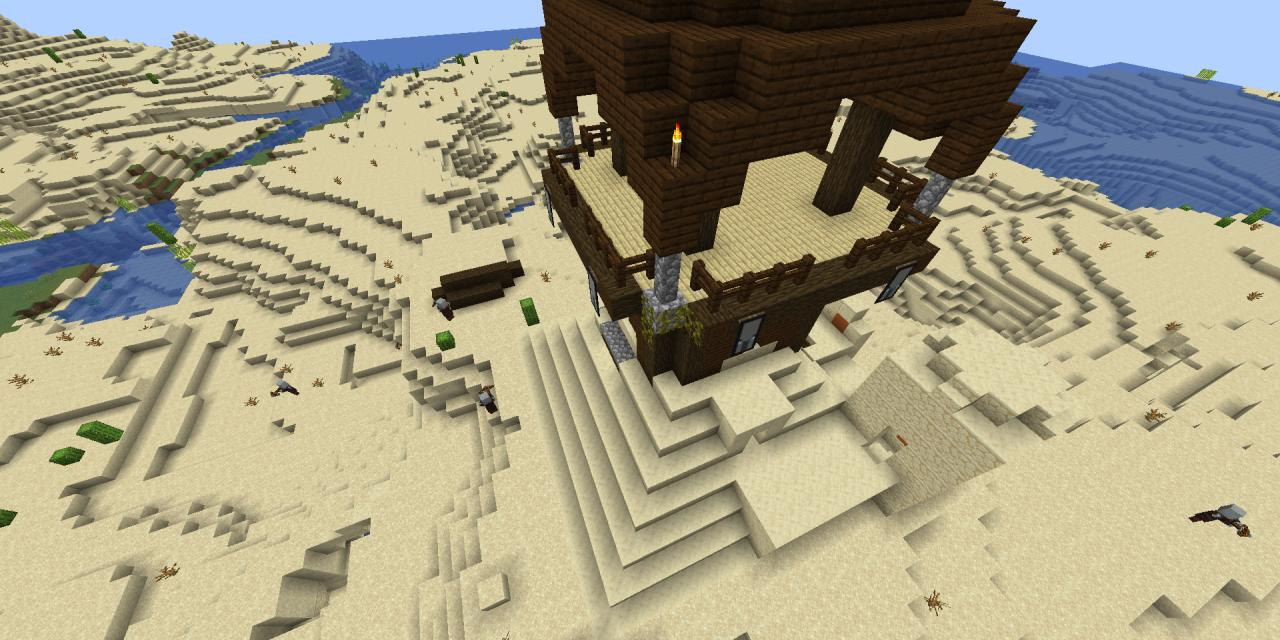desert temple: (510, 297, 1094, 640)
pillager outpost: (527, 0, 1041, 390)
